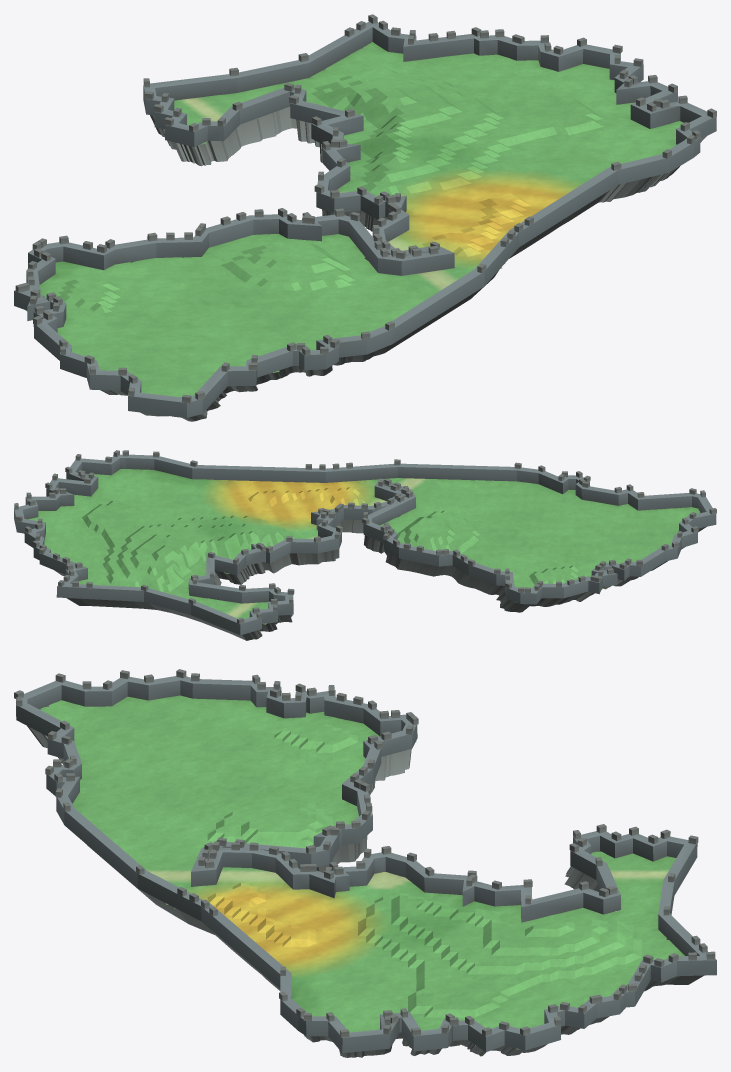
3 renders of one model, top to bottom at view 1: azimuth 30°, elevation 25°; view 2: azimuth 150°, elevation 25°; view 3: azimuth 270°, elevation 25°, orthographic. The views are drawn at different scales.
Visible parts, largest first — view 1: ground_6d1a757e; view 2: ground_6d1a757e; view 3: ground_6d1a757e.
Part boxes in pixels (box(x1,y1,x2,y2)): ground_6d1a757e: box(14, 14, 716, 421); ground_6d1a757e: box(14, 450, 716, 640); ground_6d1a757e: box(14, 669, 716, 1057).
Bounding box in the file's own units: 155 × 7.71 × 126.
Materials: 2 (1 with a texture image).
